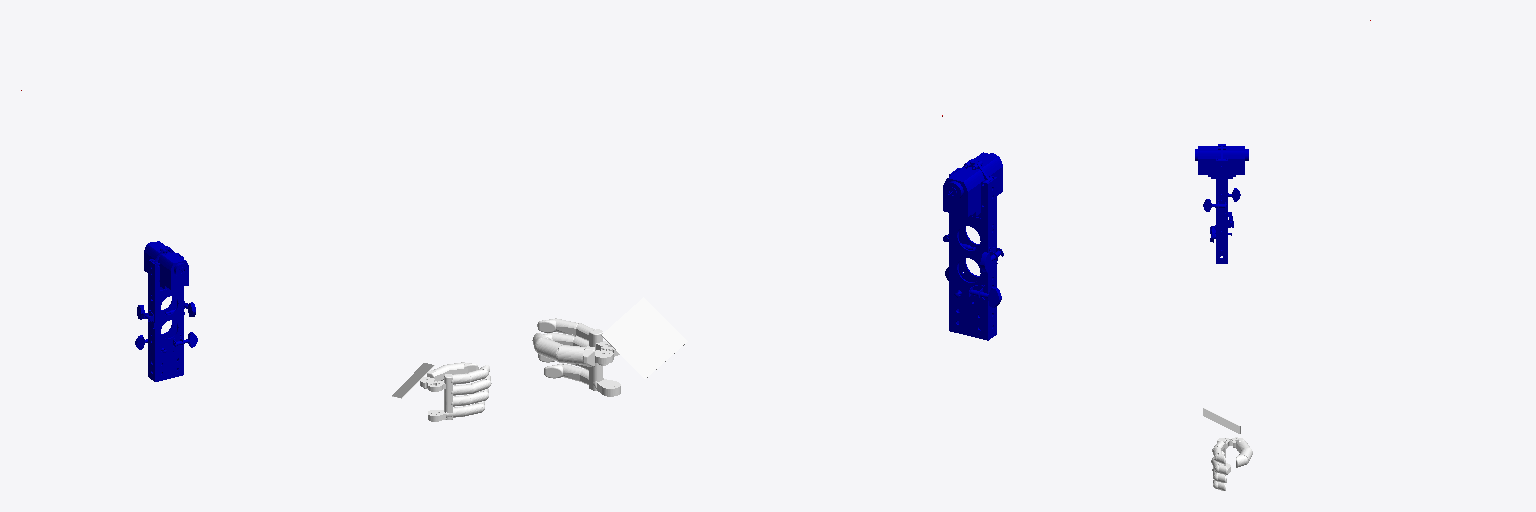
The robot description file, URDF, robot "bmirobot":
<?xml version="1.0" ?>
<!-- =================================================================================== -->
<!-- |    This document was autogenerated by xacro from bmirobot.xacro                 | -->
<!-- |    EDITING THIS FILE BY HAND IS NOT RECOMMENDED                                 | -->
<!-- =================================================================================== -->
<robot name="bmirobot" xmlns:xacro="http://www.ros.org/wiki/xacro">
  <!-- Space btw top of beam and the each joint -->
  <!--xacro:property name="camera_name" value="rgbd" /-->
  <!-- Size of square 'camera' box -->
  <!--xacro:property name="frame_name" value="rgbd_depth" /-->
  <!-- Size of square 'camera' box -->
  <!-- ros_control plugin -->
  <gazebo>
    <plugin filename="libgazebo_ros_control.so" name="gazebo_ros_control">
      <robotNamespace>/bmirobot</robotNamespace>
      <robotSimType>gazebo_ros_control/DefaultRobotHWSim</robotSimType>
    </plugin>
  </gazebo>
  <!-- Link1 -->
  <gazebo reference="link1">
    <material>Gazebo/Orange</material>
  </gazebo>
  <!-- Link2 -->
  <gazebo reference="link2">
    <mu1>0.2</mu1>
    <mu2>0.2</mu2>
    <material>Gazebo/Black</material>
  </gazebo>
  <!-- Link3 -->
  <gazebo reference="link3">
    <mu1>0.2</mu1>
    <mu2>0.2</mu2>
    <material>Gazebo/Orange</material>
  </gazebo>
  <!-- Link4 -->
  <gazebo reference="link4">
    <mu1>0.2</mu1>
    <mu2>0.2</mu2>
    <material>Gazebo/Black</material>
  </gazebo>
  <!-- Link5 -->
  <gazebo reference="link5">
    <mu1>0.2</mu1>
    <mu2>0.2</mu2>
    <material>Gazebo/Orange</material>
  </gazebo>
  <!-- Link6 -->
  <gazebo reference="link6">
    <mu1>0.2</mu1>
    <mu2>0.2</mu2>
    <material>Gazebo/Black</material>
  </gazebo>
  <!-- Link7 -->
  <gazebo reference="link7">
    <mu1>0.2</mu1>
    <mu2>0.2</mu2>
    <material>Gazebo/Orange</material>
  </gazebo>
  <!-- camera -->
  <gazebo reference="camera_link">
    <sensor name="camera1" type="camera">
      <update_rate>5.0</update_rate>
      <camera name="head">
        <horizontal_fov>1.3962634</horizontal_fov>
        <image>
          <width>800</width>
          <height>800</height>
          <format>R8G8B8</format>
        </image>
        <clip>
          <near>0.02</near>
          <far>300</far>
        </clip>
        <noise>
          <type>gaussian</type>
          <!-- Noise is sampled independently per pixel on each frame.
               That pixel's noise value is added to each of its color
               channels, which at that point lie in the range [0,1]. -->
          <mean>0.0</mean>
          <stddev>0.007</stddev>
        </noise>
      </camera>
      <plugin filename="libgazebo_ros_camera.so" name="camera_controller">
        <alwaysOn>true</alwaysOn>
        <updateRate>0.0</updateRate>
        <cameraName>rrbot/camera1</cameraName>
        <imageTopicName>image_raw</imageTopicName>
        <cameraInfoTopicName>camera_info</cameraInfoTopicName>
        <frameName>camera_link</frameName>
        <hackBaseline>0.07</hackBaseline>
        <distortionK1>0.0</distortionK1>
        <distortionK2>0.0</distortionK2>
        <distortionK3>0.0</distortionK3>
        <distortionT1>0.0</distortionT1>
        <distortionT2>0.0</distortionT2>
      </plugin>
    </sensor>
  </gazebo>
  <gazebo reference="rgbd_link">
    <sensor name="rgbd1" type="depth">
      <always_on>1</always_on>
      <update_rate>20.0</update_rate>
      <visualize>false</visualize>
      <camera>
        <horizontal_fov>1.047</horizontal_fov>
        <image>
          <width>640</width>
          <height>480</height>
          <format>B8G8R8</format>
        </image>
        <depth_camera>

            </depth_camera>
        <clip>
          <near>0.1</near>
          <far>4</far>
        </clip>
      </camera>
      <plugin filename="libgazebo_ros_openni_kinect.so" name="rgbd_controller">
        <baseline>0.2</baseline>
        <alwaysOn>true</alwaysOn>
        <updateRate>20.0</updateRate>
        <cameraName>camera</cameraName>
        <imageTopicName>/camera/rgb/image_raw</imageTopicName>
        <cameraInfoTopicName>/camera/rgb/camera_info</cameraInfoTopicName>
        <depthImageTopicName>/camera/depth/image_raw</depthImageTopicName>
        <depthImageInfoTopicName>/camera/depth/camera_info</depthImageInfoTopicName>
        <pointCloudTopicName>/camera/depth/points</pointCloudTopicName>
        <frameName>rgbd2_link</frameName>
        <pointCloudCutoff>0.5</pointCloudCutoff>
        <distortionK1>0</distortionK1>
        <distortionK2>0</distortionK2>
        <distortionK3>0</distortionK3>
        <distortionT1>0</distortionT1>
        <distortionT2>0</distortionT2>
        <CxPrime>0</CxPrime>
        <Cx>0</Cx>
        <Cy>0</Cy>
        <focalLength>0</focalLength>
        <hackBaseline>0</hackBaseline>
      </plugin>
    </sensor>
  </gazebo>
  <gazebo>
    <plugin filename="libgazebo_grasp_fix.so" name="gazebo_grasp_fix">
      <arm>
        <arm_name>bmirobot</arm_name>
        <palm_link>link8</palm_link>
        <gripper_link>hand_1</gripper_link>
        <gripper_link>hand_4</gripper_link>
      </arm>
      <forces_angle_tolerance>90</forces_angle_tolerance>
      <update_rate>4</update_rate>
      <grip_count_threshold>2</grip_count_threshold>
      <max_grip_count>4</max_grip_count>
      <release_tolerance>0.003</release_tolerance>
      <disable_collisions_on_attach>true</disable_collisions_on_attach>
      <contact_topic>__default_topic__</contact_topic>
    </plugin>
  </gazebo>
  <material name="black">
    <color rgba="0.0 0.0 0.0 1.0"/>
  </material>
  <material name="blue">
    <color rgba="0.0 0.0 0.8 1.0"/>
  </material>
  <material name="green">
    <color rgba="0.0 0.8 0.0 1.0"/>
  </material>
  <material name="grey">
    <color rgba="0.2 0.2 0.2 1.0"/>
  </material>
  <material name="orange">
    <color rgba="1.0 0.423529411765 0.0392156862745 1.0"/>
  </material>
  <material name="brown">
    <color rgba="0.870588235294 0.811764705882 0.764705882353 1.0"/>
  </material>
  <material name="red">
    <color rgba="0.8 0.0 0.0 1.0"/>
  </material>
  <material name="white">
    <color rgba="1.0 1.0 1.0 1.0"/>
  </material>
  <!-- Used for fixing robot to Gazebo 'base_link' -->
  <link name="world"/>
  <joint name="fixed" type="fixed">
    <parent link="world"/>
    <child link="odom_combined"/>
  </joint>
  <link name="odom_combined"/>
  <joint name="virtual_joint" type="fixed">
    <parent link="odom_combined"/>
    <child link="base_link"/>
    <origin rpy="0 0 0" xyz="0 0 0.45"/>
  </joint>
  <link name="base_link">
    <visual>
      <geometry>
        <mesh filename="package://test_robot/stl/Link1.STL"/>
      </geometry>
      <material name="blue"/>
    </visual>
    <collision>
      <geometry>
        <mesh filename="package://test_robot/stl/Link1.STL"/>
      </geometry>
    </collision>
    <inertial>
      <origin rpy="0 0 0" xyz="0 0 1"/>
      <mass value="1"/>
      <inertia ixx="1.0" ixy="0.0" ixz="0.0" iyy="1.0" iyz="0.0" izz="1.0"/>
    </inertial>
  </link>
  <link name="link2">
    <visual>
      <geometry>
        <mesh filename="package://test_robot/stl/Link2.STL"/>
      </geometry>
      <origin rpy="0 0 0" xyz="0 0 0"/>
      <material name="white"/>
    </visual>
    <collision>
      <geometry>
        <mesh filename="package://test_robot/stl/Link2.STL"/>
      </geometry>
      <origin rpy="0 0 0" xyz="0 0 0"/>
    </collision>
    <inertial>
      <origin rpy="0 0 0" xyz="0 0 1"/>
      <mass value="1"/>
      <inertia ixx="1.0" ixy="0.0" ixz="0.0" iyy="1.0" iyz="0.0" izz="1.0"/>
    </inertial>
  </link>
  <link name="link3">
    <visual>
      <geometry>
        <mesh filename="package://test_robot/stl/Link3_2.STL"/>
      </geometry>
      <origin rpy="0 0 0" xyz="0 0 0"/>
      <material name="blue"/>
    </visual>
    <collision>
      <geometry>
        <mesh filename="package://test_robot/stl/Link3_2.STL"/>
      </geometry>
      <origin rpy="0 0 0" xyz="0 0 0"/>
    </collision>
    <inertial>
      <origin rpy="0 0 0" xyz="0 0 1"/>
      <mass value="1"/>
      <inertia ixx="1.0" ixy="0.0" ixz="0.0" iyy="1.0" iyz="0.0" izz="1.0"/>
    </inertial>
  </link>
  <link name="link4">
    <visual>
      <geometry>
        <mesh filename="package://test_robot/stl/Link2.STL"/>
      </geometry>
      <origin rpy="0 0 0" xyz="0 0 0"/>
      <material name="white"/>
    </visual>
    <collision>
      <geometry>
        <mesh filename="package://test_robot/stl/Link2.STL"/>
      </geometry>
      <origin rpy="0 0 0" xyz="0 0 0"/>
    </collision>
    <inertial>
      <origin rpy="0 0 0" xyz="0 0 1"/>
      <mass value="1"/>
      <inertia ixx="1.0" ixy="0.0" ixz="0.0" iyy="1.0" iyz="0.0" izz="1.0"/>
    </inertial>
  </link>
  <link name="link5">
    <visual>
      <geometry>
        <mesh filename="package://test_robot/stl/Link5_2.STL"/>
      </geometry>
      <origin rpy="0 0 0" xyz="0 0 0"/>
      <material name="blue"/>
    </visual>
    <collision>
      <geometry>
        <mesh filename="package://test_robot/stl/Link5_2.STL"/>
      </geometry>
      <origin rpy="0 0 0" xyz="0 0 0"/>
    </collision>
    <inertial>
      <origin rpy="0 0 0" xyz="0 0 1"/>
      <mass value="1"/>
      <inertia ixx="1.0" ixy="0.0" ixz="0.0" iyy="1.0" iyz="0.0" izz="1.0"/>
    </inertial>
  </link>
  <link name="link6">
    <visual>
      <geometry>
        <mesh filename="package://test_robot/stl/Link6.STL"/>
      </geometry>
      <origin rpy="0 0 0" xyz="0 0 0"/>
      <material name="white"/>
    </visual>
    <collision>
      <geometry>
        <mesh filename="package://test_robot/stl/Link6.STL"/>
      </geometry>
      <origin rpy="0 0 0" xyz="0 0 0"/>
    </collision>
    <inertial>
      <origin rpy="0 0 0" xyz="0 0 1"/>
      <mass value="1"/>
      <inertia ixx="1.0" ixy="0.0" ixz="0.0" iyy="1.0" iyz="0.0" izz="1.0"/>
    </inertial>
  </link>
  <link name="link7">
    <visual>
      <geometry>
        <mesh filename="package://test_robot/stl/Link7.STL"/>
      </geometry>
      <origin rpy="0 0 0" xyz="0 0 0"/>
      <material name="blue"/>
    </visual>
    <collision>
      <geometry>
        <mesh filename="package://test_robot/stl/Link7.STL"/>
      </geometry>
      <origin rpy="0 0 0" xyz="0 0 0"/>
    </collision>
    <inertial>
      <origin rpy="0 0 0" xyz="0 0 1"/>
      <mass value="1"/>
      <inertia ixx="1.0" ixy="0.0" ixz="0.0" iyy="1.0" iyz="0.0" izz="1.0"/>
    </inertial>
  </link>
  <link name="link8">
    <visual>
      <geometry>
        <mesh filename="package://test_robot/stl/Link8.STL"/>
      </geometry>
      <origin rpy="0 0 0" xyz="0 0 0"/>
      <material name="white"/>
    </visual>
    <collision>
      <geometry>
        <mesh filename="package://test_robot/stl/Link8.STL"/>
      </geometry>
      <origin rpy="0 0 0" xyz="0 0 0"/>
    </collision>
    <inertial>
      <origin rpy="0 0 0" xyz="0 0 1"/>
      <mass value="1"/>
      <inertia ixx="1.0" ixy="0.0" ixz="0.0" iyy="1.0" iyz="0.0" izz="1.0"/>
    </inertial>
  </link>
  <link name="hand_1">
    <visual>
      <geometry>
        <mesh filename="package://test_robot/stl/Finger1.STL"/>
      </geometry>
      <origin rpy="0 0 0" xyz="0 0 0"/>
      <material name="white"/>
    </visual>
    <collision>
      <geometry>
        <mesh filename="package://test_robot/stl/Finger1.STL"/>
      </geometry>
      <origin rpy="0 0 0" xyz="0 0 0"/>
    </collision>
    <inertial>
      <origin rpy="0 0 0" xyz="0 0 1"/>
      <mass value="1"/>
      <inertia ixx="1.0" ixy="0.0" ixz="0.0" iyy="1.0" iyz="0.0" izz="1.0"/>
    </inertial>
  </link>
  <link name="hand_4">
    <visual>
      <geometry>
        <mesh filename="package://test_robot/stl/Finger2.STL"/>
      </geometry>
      <origin rpy="0 0 0" xyz="0 0 0"/>
      <material name="white"/>
    </visual>
    <collision>
      <geometry>
        <mesh filename="package://test_robot/stl/Finger2.STL"/>
      </geometry>
      <origin rpy="0 0 0" xyz="0 0 0"/>
    </collision>
    <inertial>
      <origin rpy="0 0 0" xyz="0 0 1"/>
      <mass value="1"/>
      <inertia ixx="1.0" ixy="0.0" ixz="0.0" iyy="1.0" iyz="0.0" izz="1.0"/>
    </inertial>
  </link>
  <link name="armarker">
    <visual>
      <geometry>
        <mesh filename="package://test_robot/stl/armarker.dae"/>
      </geometry>
      <origin rpy="0 0 -1.57079632679" xyz="0 0 0"/>
      <material name="white"/>
    </visual>
    <collision>
      <geometry>
        <mesh filename="package://test_robot/stl/armarker.stl"/>
      </geometry>
      <origin rpy="0 0 -1.57079632679" xyz="0 0 0"/>
    </collision>
    <inertial>
      <origin rpy="0 0 0" xyz="0 0 1"/>
      <mass value="1"/>
      <inertia ixx="1.0" ixy="0.0" ixz="0.0" iyy="1.0" iyz="0.0" izz="1.0"/>
    </inertial>
  </link>
  <joint name="joint1" type="revolute">
    <limit effort="1000.0" lower="-1.25663706144" upper="1.25663706144" velocity="0.5"/>
    <origin rpy="0 0 0" xyz="0.065 0 0"/>
    <axis xyz="1 0 0"/>
    <parent link="base_link"/>
    <child link="link2"/>
    <dynamics damping="0.7"/>
  </joint>
  <joint name="joint2" type="revolute">
    <limit effort="1000.0" lower="-1.88495559215" upper="0.1" velocity="0.5"/>
    <origin rpy="0 1.5708 0" xyz="0.04 0 0"/>
    <axis xyz="0 1 0"/>
    <parent link="link2"/>
    <child link="link3"/>
    <dynamics damping="0.7"/>
  </joint>
  <joint name="joint3" type="revolute">
    <limit effort="1000.0" lower="-1.25663706144" upper="1.25663706144" velocity="0.5"/>
    <origin rpy="0 0 0" xyz="0.2643 0 0"/>
    <axis xyz="1 0 0"/>
    <parent link="link3"/>
    <child link="link4"/>
    <dynamics damping="0.7"/>
  </joint>
  <joint name="joint4" type="revolute">
    <limit effort="1000.0" lower="-0.33" upper="1.57079632679" velocity="0.5"/>
    <origin rpy="0 -1.5708 0" xyz="0.04 0 0"/>
    <axis xyz="0 1 0"/>
    <parent link="link4"/>
    <child link="link5"/>
    <dynamics damping="0.7"/>
  </joint>
  <joint name="joint5" type="revolute">
    <limit effort="1000.0" lower="-0.523" upper="0.523" velocity="0.5"/>
    <origin rpy="-1.5708 0 0" xyz="0.2825 0 -0.0326"/>
    <axis xyz="1 0 0"/>
    <parent link="link5"/>
    <child link="link6"/>
    <dynamics damping="0.7"/>
  </joint>
  <joint name="joint6" type="revolute">
    <limit effort="1000.0" lower="-1.0" upper="1.0" velocity="0.5"/>
    <origin rpy="0 0 0" xyz="0.03567 0 0"/>
    <axis xyz="0 1 0"/>
    <parent link="link6"/>
    <child link="link7"/>
    <dynamics damping="0.7"/>
  </joint>
  <joint name="joint7" type="revolute">
    <limit effort="1000.0" lower="-0.523" upper="0.548" velocity="0.5"/>
    <origin rpy="0 0 0" xyz="0.074 0 0"/>
    <axis xyz="0 0 1"/>
    <parent link="link7"/>
    <child link="link8"/>
    <dynamics damping="0.7"/>
  </joint>
  <joint name="hand_joint_1" type="revolute">
    <limit effort="1000.0" lower="-0.648" upper="0.6" velocity="0.5"/>
    <origin rpy="0 0 0" xyz="0.0685 -0.01 0.0245"/>
    <axis xyz="0 1 0"/>
    <parent link="link8"/>
    <child link="hand_1"/>
    <dynamics damping="0.7"/>
  </joint>
  <joint name="hand_joint_4" type="revolute">
    <limit effort="1000.0" lower="-0.6" upper="0.648" velocity="0.5"/>
    <origin rpy="0 0 0" xyz="0.0705 -0.012 0.00475"/>
    <axis xyz="0 1 0"/>
    <parent link="link8"/>
    <child link="hand_4"/>
    <dynamics damping="0.7"/>
  </joint>
  <!--joint name="camera_joint" type="fixed">
    <axis xyz="0 1 0" />
    <origin xyz="${camera_link} 0 -0.05" rpy="${0.5 * pi} 0 0"/>
    <parent link="link8"/>
    <child link="camera_link"/>
  </joint-->
  <joint name="rgbd_joint" type="fixed">
    <axis xyz="1 0 0"/>
    <origin rpy="0 0.942477796077 0" xyz="0 0.25 0.2"/>
    <parent link="base_link"/>
    <child link="rgbd_link"/>
  </joint>
  <joint name="rgbd2_joint" type="fixed">
    <axis xyz="1 0 0"/>
    <origin rpy="0.628318530718 -3.14159265359 1.57079632679" xyz="0 0.25 0.2"/>
    <parent link="base_link"/>
    <child link="rgbd2_link"/>
  </joint>
  <joint name="armarker_joint" type="fixed">
    <axis xyz="1 0 0"/>
    <origin rpy="1.09955742876 0.0 -0.628318530718" xyz="0.03 -0.04 0"/>
    <parent link="link8"/>
    <child link="armarker"/>
  </joint>
  <!-- Camera -->
  <link name="rgbd2_link">
    <collision>
      <origin rpy="0 0 0" xyz="0 0 0"/>
      <geometry>
        <box size="0.001 0.001 0.001"/>
      </geometry>
    </collision>
    <visual>
      <origin rpy="0 0 0" xyz="0 0 0"/>
      <geometry>
        <box size="0.001 0.001 0.001"/>
      </geometry>
      <material name="red"/>
    </visual>
    <inertial>
      <mass value="1e-5"/>
      <origin rpy="0 0 0" xyz="0 0 0"/>
      <inertia ixx="1e-6" ixy="0" ixz="0" iyy="1e-6" iyz="0" izz="1e-6"/>
    </inertial>
  </link>
  <!-- Camera -->
  <!--link name="camera_link">
    <collision>
      <origin xyz="0 0 0" rpy="0 0 0"/>
      <geometry>
    <box size="${camera_link} ${camera_link} ${camera_link}"/>
      </geometry>
    </collision>

    <visual>
      <origin xyz="0 0 0" rpy="0 0 0"/>
      <geometry>
    <box size="${camera_link} ${camera_link} ${camera_link}"/>
      </geometry>
      <material name="red"/>
    </visual>

    <inertial>
      <mass value="1e-5" />
      <origin xyz="0 0 0" rpy="0 0 0"/>
      <inertia ixx="1e-6" ixy="0" ixz="0" iyy="1e-6" iyz="0" izz="1e-6" />
    </inertial>
  </link-->
  <!-- kinect -->
  <link name="rgbd_link">
    <collision>
      <origin rpy="0 0 0" xyz="0 0 0"/>
      <geometry>
        <box size="0.025 0.025 0.025"/>
      </geometry>
    </collision>
    <visual>
      <origin rpy="0 0 0" xyz="0 0 0"/>
      <geometry>
        <mesh filename="package://moveit_resources/test/urdf/meshes/sensors/kinect_v0/kinect.dae" scale="0.001 0.001 0.001"/>
      </geometry>
      <material name="red"/>
    </visual>
    <inertial>
      <mass value="1e-5"/>
      <origin rpy="0 0 0" xyz="0 0 0"/>
      <inertia ixx="1e-6" ixy="0" ixz="0" iyy="1e-6" iyz="0" izz="1e-6"/>
    </inertial>
  </link>
  <transmission name="tran1">
    <type>transmission_interface/SimpleTransmission</type>
    <joint name="joint1">
      <hardwareInterface>PositionJointInterface</hardwareInterface>
    </joint>
    <actuator name="motor1">
      <hardwareInterface>PositionJointInterface</hardwareInterface>
      <mechanicalReduction>1</mechanicalReduction>
    </actuator>
  </transmission>
  <transmission name="tran2">
    <type>transmission_interface/SimpleTransmission</type>
    <joint name="joint2">
      <hardwareInterface>PositionJointInterface</hardwareInterface>
    </joint>
    <actuator name="motor2">
      <hardwareInterface>PositionJointInterface</hardwareInterface>
      <mechanicalReduction>1</mechanicalReduction>
    </actuator>
  </transmission>
  <transmission name="tran3">
    <type>transmission_interface/SimpleTransmission</type>
    <joint name="joint3">
      <hardwareInterface>PositionJointInterface</hardwareInterface>
    </joint>
    <actuator name="motor3">
      <hardwareInterface>PositionJointInterface</hardwareInterface>
      <mechanicalReduction>1</mechanicalReduction>
    </actuator>
  </transmission>
  <transmission name="tran4">
    <type>transmission_interface/SimpleTransmission</type>
    <joint name="joint4">
      <hardwareInterface>PositionJointInterface</hardwareInterface>
    </joint>
    <actuator name="motor4">
      <hardwareInterface>PositionJointInterface</hardwareInterface>
      <mechanicalReduction>1</mechanicalReduction>
    </actuator>
  </transmission>
  <transmission name="tran5">
    <type>transmission_interface/SimpleTransmission</type>
    <joint name="joint5">
      <hardwareInterface>PositionJointInterface</hardwareInterface>
    </joint>
    <actuator name="motor5">
      <hardwareInterface>PositionJointInterface</hardwareInterface>
      <mechanicalReduction>1</mechanicalReduction>
    </actuator>
  </transmission>
  <transmission name="tran6">
    <type>transmission_interface/SimpleTransmission</type>
    <joint name="joint6">
      <hardwareInterface>PositionJointInterface</hardwareInterface>
    </joint>
    <actuator name="motor6">
      <hardwareInterface>PositionJointInterface</hardwareInterface>
      <mechanicalReduction>1</mechanicalReduction>
    </actuator>
  </transmission>
  <transmission name="tran7">
    <type>transmission_interface/SimpleTransmission</type>
    <joint name="joint7">
      <hardwareInterface>PositionJointInterface</hardwareInterface>
    </joint>
    <actuator name="motor7">
      <hardwareInterface>PositionJointInterface</hardwareInterface>
      <mechanicalReduction>1</mechanicalReduction>
    </actuator>
  </transmission>
  <transmission name="tran8">
    <type>transmission_interface/SimpleTransmission</type>
    <joint name="hand_joint_1">
      <hardwareInterface>PositionJointInterface</hardwareInterface>
    </joint>
    <actuator name="motor8">
      <hardwareInterface>PositionJointInterface</hardwareInterface>
      <mechanicalReduction>1</mechanicalReduction>
    </actuator>
  </transmission>
  <transmission name="tran9">
    <type>transmission_interface/SimpleTransmission</type>
    <joint name="hand_joint_4">
      <hardwareInterface>PositionJointInterface</hardwareInterface>
    </joint>
    <actuator name="motor8">
      <hardwareInterface>PositionJointInterface</hardwareInterface>
      <mechanicalReduction>1</mechanicalReduction>
    </actuator>
  </transmission>
</robot>

--- What the picture shows (computed from the rendered views, not written in the file) ---
Views: 3 orthographic renders of the robot side by side, from view 1: azimuth 30°, elevation 25°; view 2: azimuth 150°, elevation 25°; view 3: azimuth 270°, elevation 25°.
Model bmirobot with 15 links and 14 joints (9 revolute, 5 fixed), rooted at world, posed all joints at 0.
Visible links, largest first — view 1: link3, hand_4, hand_1; view 2: link3, armarker, hand_4, hand_1; view 3: link3, hand_4.
Link boxes in pixels (x1,y1,x2,y2): link3: (135, 241, 197, 381); hand_4: (428, 365, 491, 421); hand_1: (420, 362, 478, 388); link3: (943, 152, 1003, 340); armarker: (601, 297, 687, 378); hand_4: (537, 318, 620, 396); hand_1: (532, 333, 613, 366); link3: (1195, 144, 1248, 263); hand_4: (1211, 438, 1230, 490).
Size in the robot's own frame: 0.6657 by 0.3055 by 0.5734 metres.
Meshes: 11 distinct files referenced, 4 mesh visuals loaded (3 binary STL, 1 Collada DAE); not drawn: 8 (reference not matched to a file when rendering).